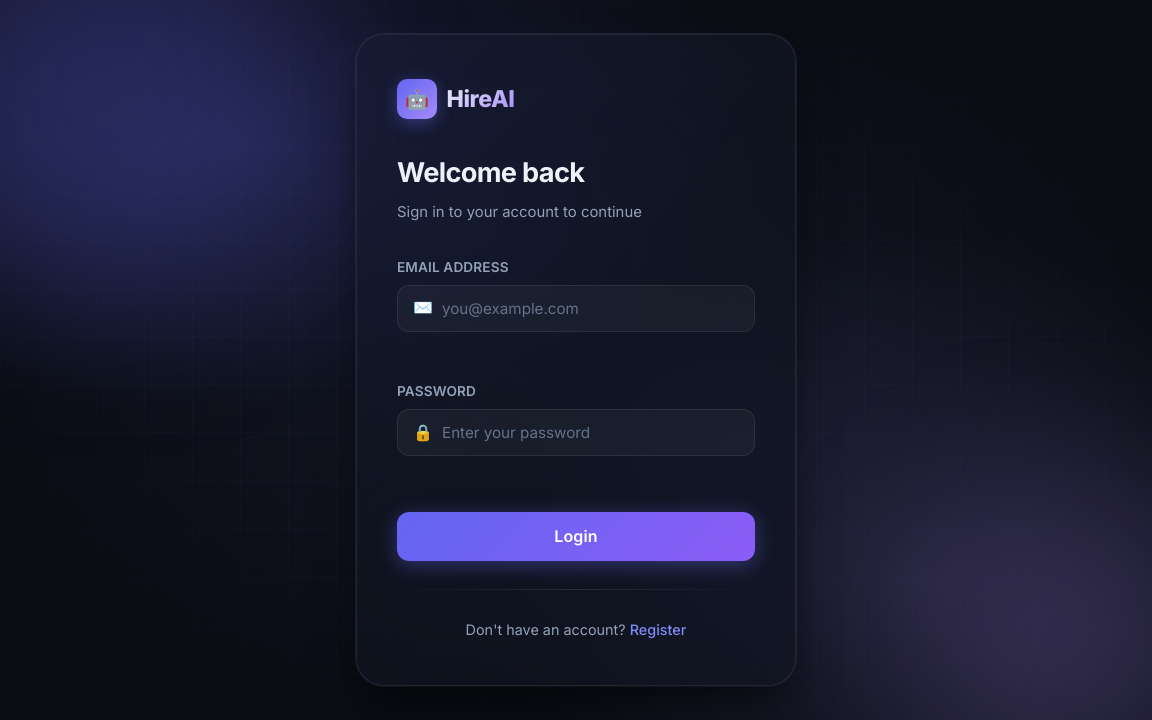
Scenario: Login Page — Full Mutation & Accessibility Tests › shows error banner alert on login failure mutation
This screenshot has width=1152, height=720.
Type "wrong@example.com" into the field labelled "Email address" at (576, 308), box [397,285,755,332]
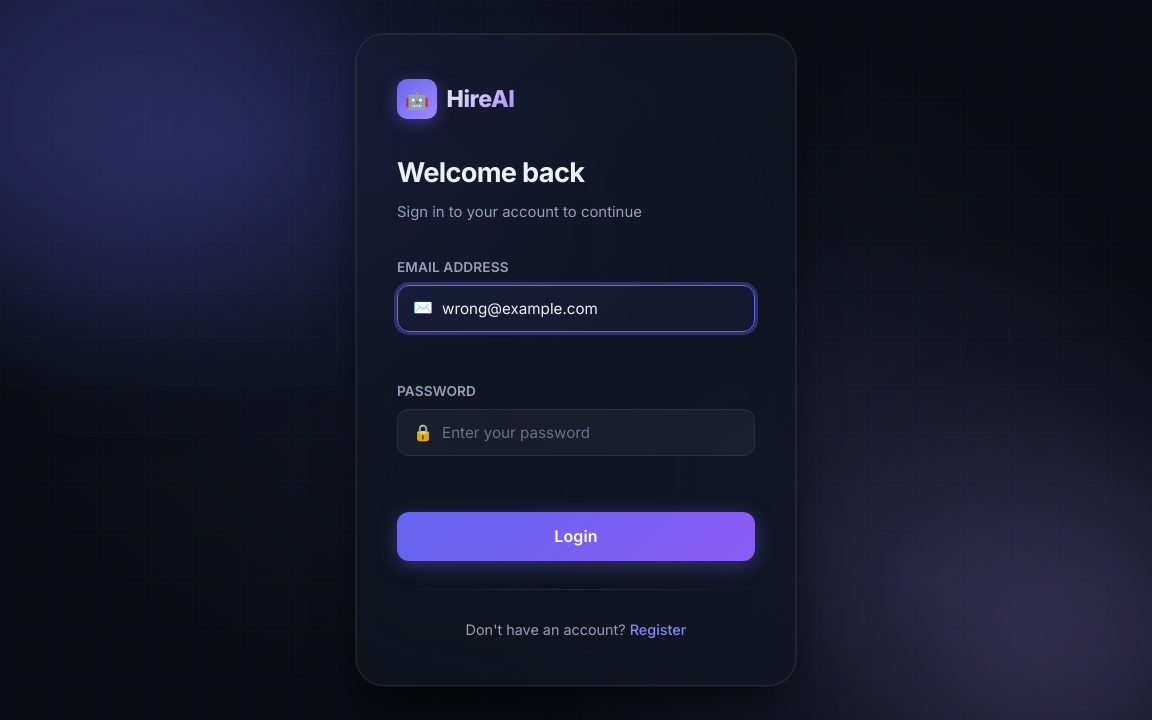
Type "wrongpass" into the password field labelled "Password" at (576, 433), box [397,409,755,456]
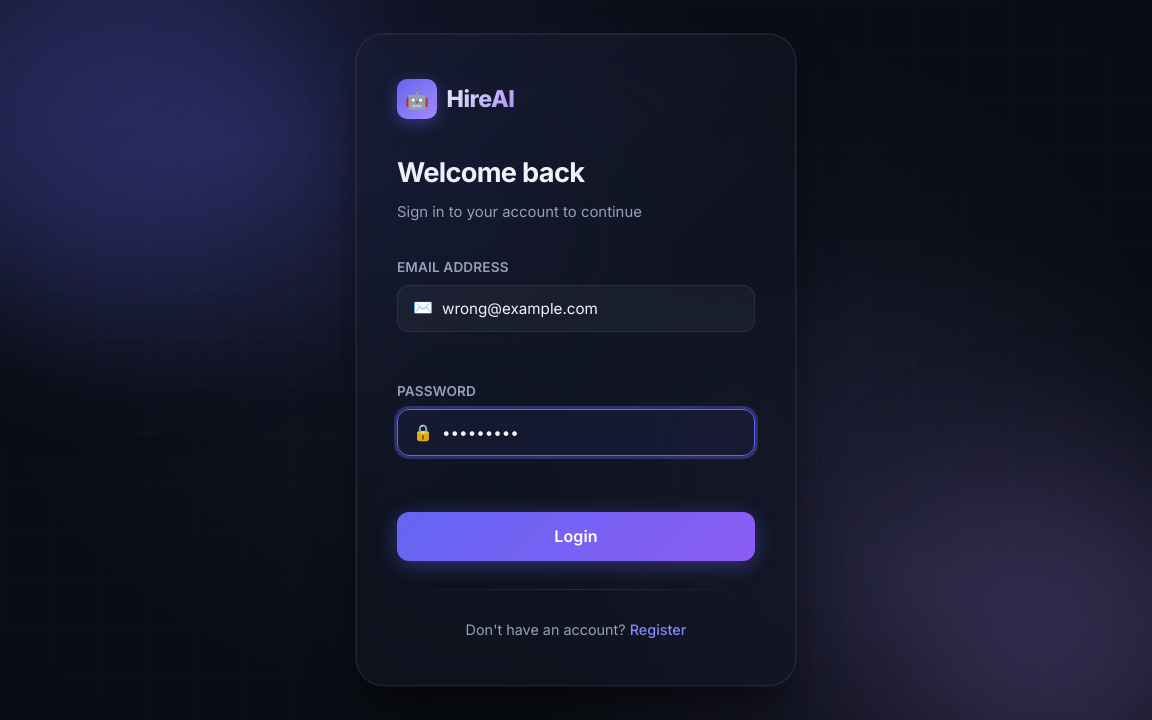
Click the button "Login" at (576, 536), box [397,512,755,561]
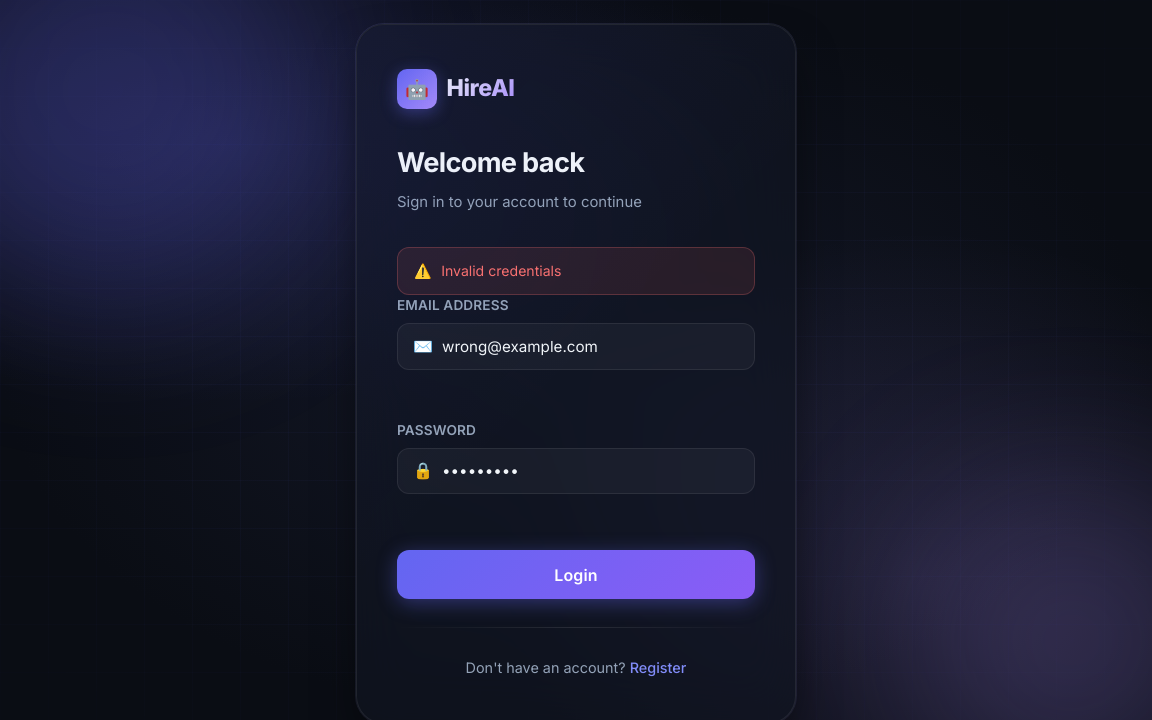
Expected: the message "⚠️ Invalid credentials" is shown, [397,247,755,295]
Expected: the text "Invalid credentials" is shown, [441,260,562,282]
